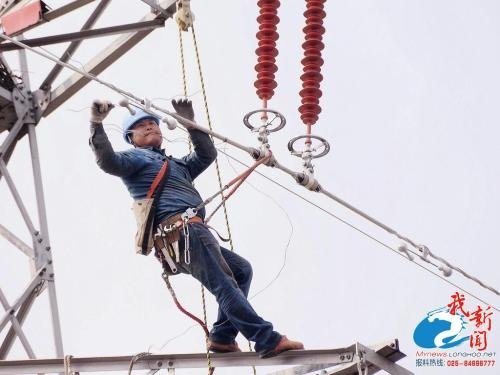blue: (120, 108, 161, 150)
